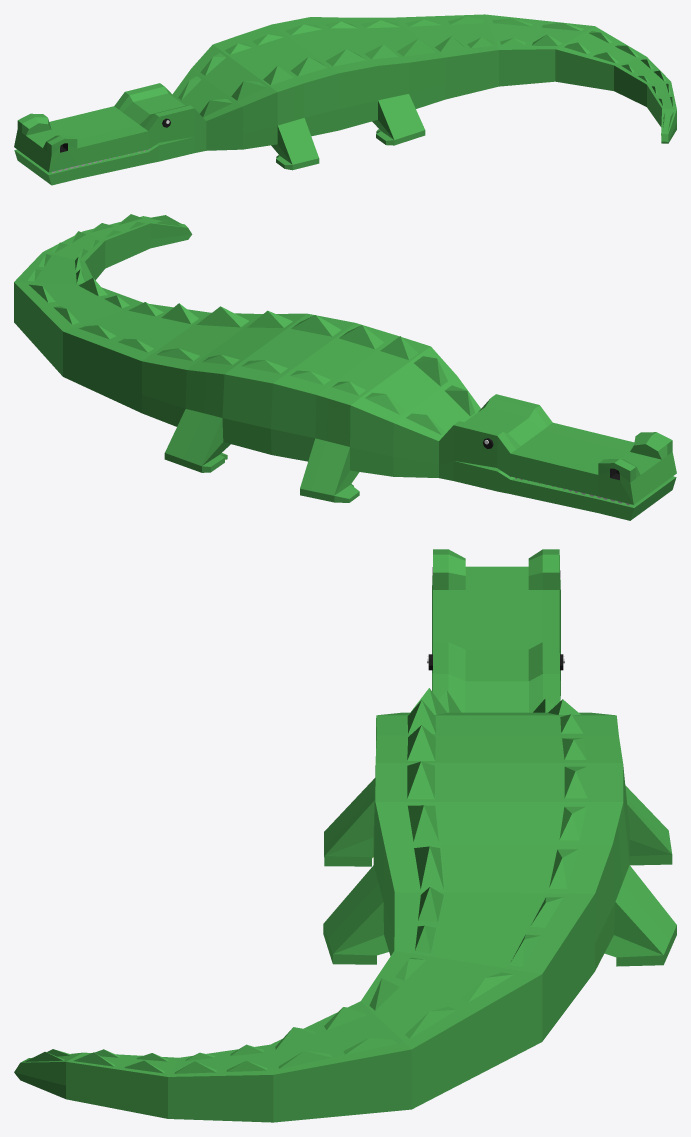
Rendered from scene_jPMWvyH3Vv.glb.
3 renders of one model, top to bottom at view 1: azimuth 30°, elevation 25°; view 2: azimuth 150°, elevation 25°; view 3: azimuth 270°, elevation 25°, orthographic. The views are drawn at different scales.
Visible parts, largest first — view 1: Plane; view 2: Plane; view 3: Plane.
Part boxes in pixels (x1,y1,x2,y2): Plane: [14, 14, 676, 185]; Plane: [14, 214, 676, 520]; Plane: [14, 549, 676, 1122].
Size of the model in its own units: 1279 by 189 by 715.
